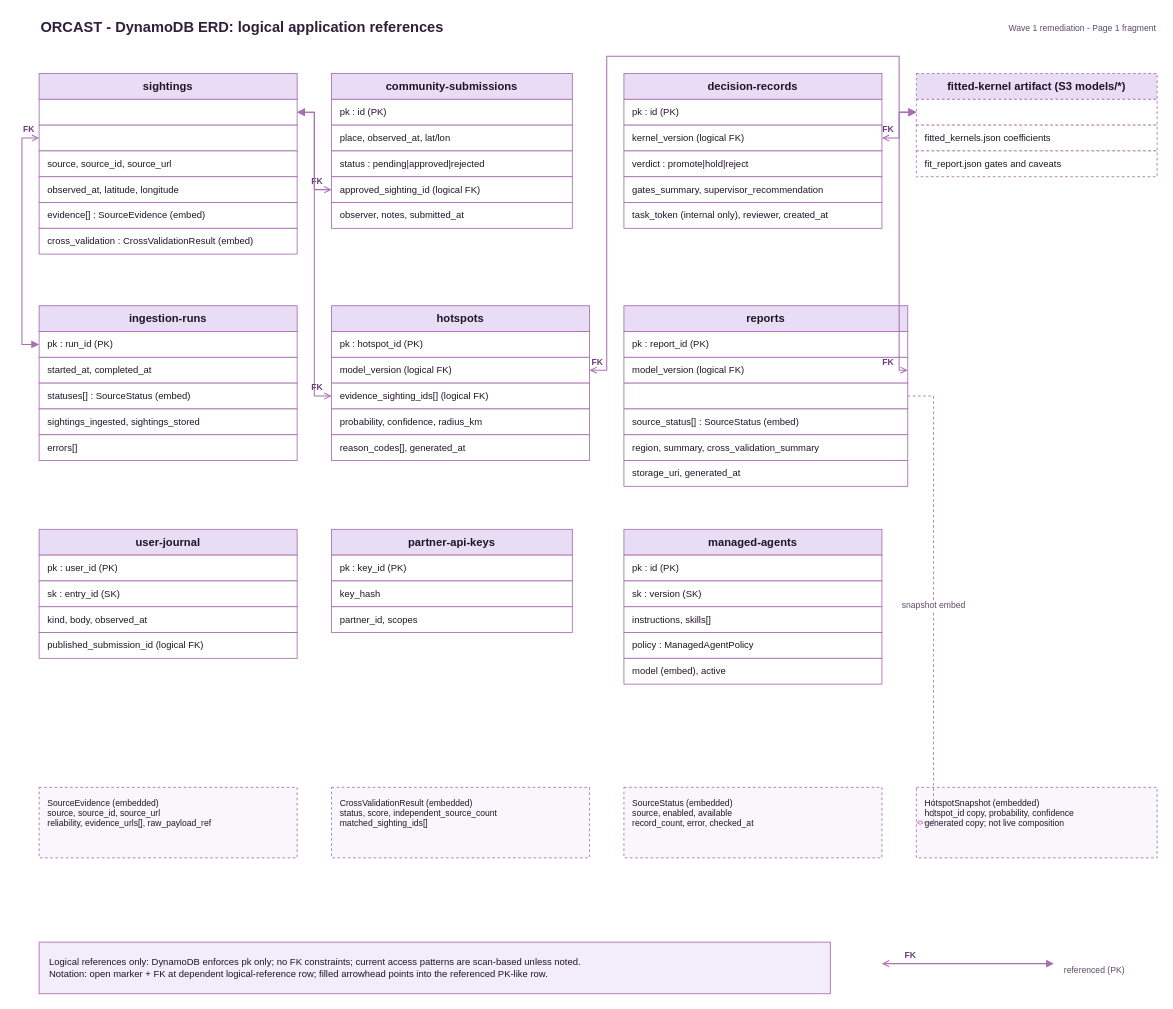
This 1173x1009 diagram has some shape labels left out. The centre of each missing label's shape, as x and y in pixels:
hotspots[] : HotspotSnapshot (denormalized snapshot embed): pixel 765 395
ingestion_run_id (logical FK): pixel 167 137
model_version / artifact key (PK): pixel 1036 111
pk : sighting_id (PK): pixel 167 111
